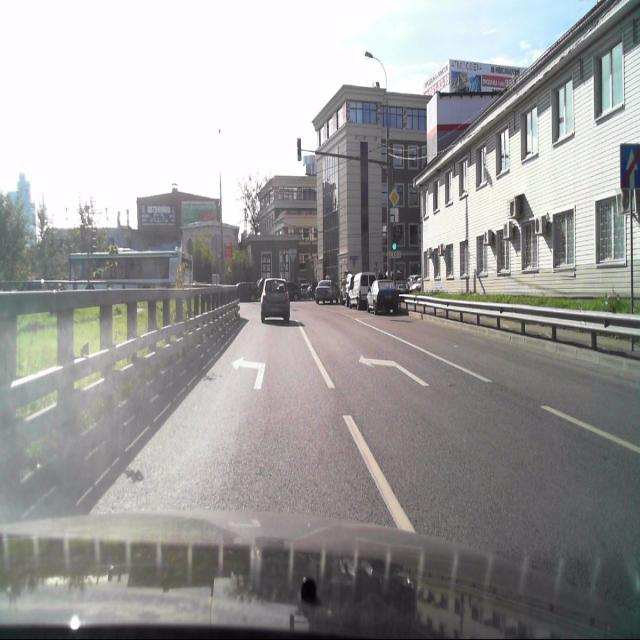road sign: (619, 142, 640, 188)
